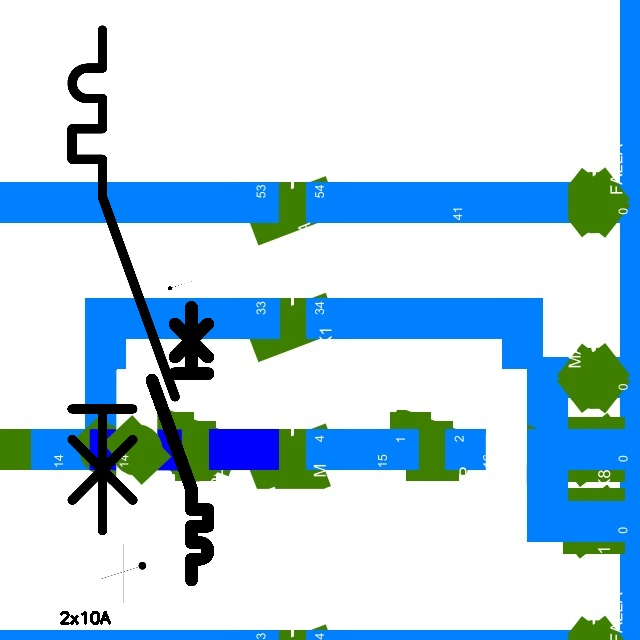interruptor_termomagnetico: (59, 17, 188, 543), (145, 300, 215, 586)
